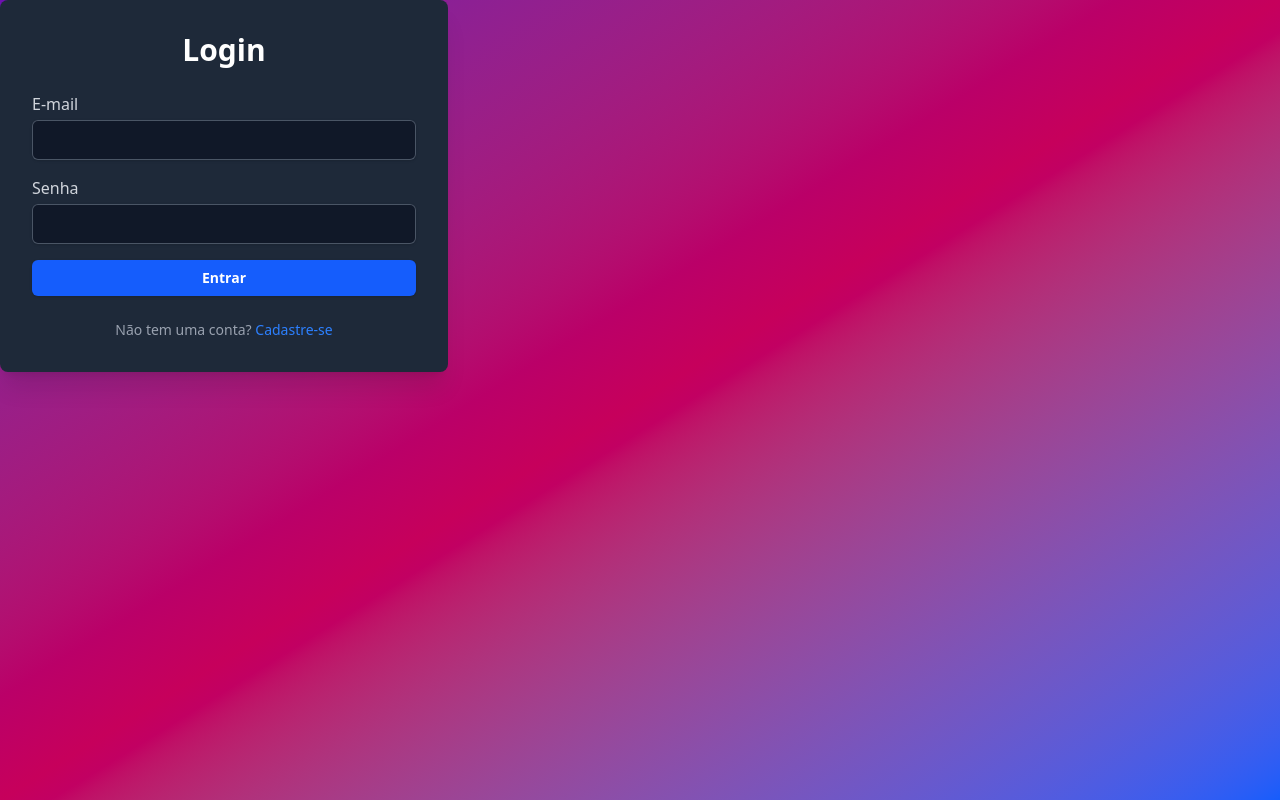
Test case: LoginPage › should display an error message on failed login from API
Type "wrong@fail.com" into the field labelled "E-mail" at (224, 140), box [32,120,416,160]
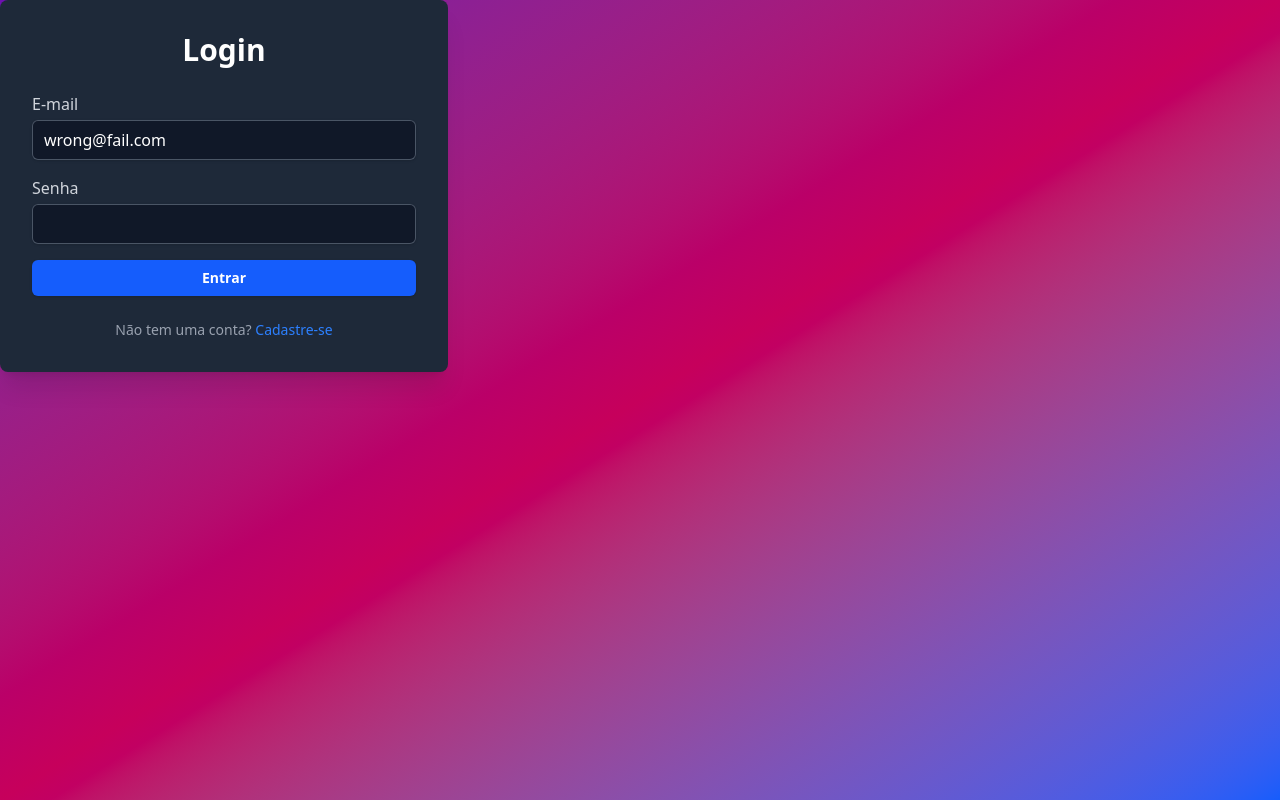
Type "wrongpassword" into the password field labelled "Senha" at (224, 224), box [32,204,416,244]
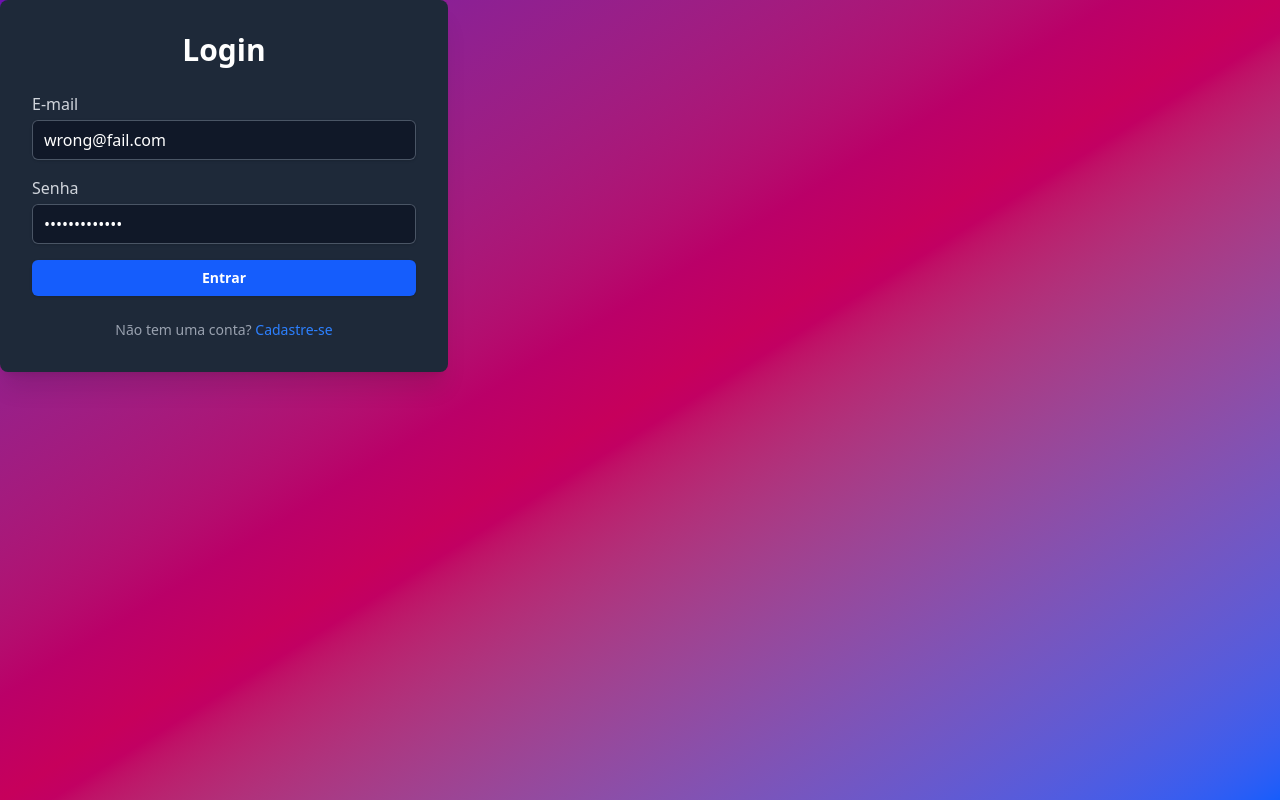
Click the button "Entrar" at (224, 278), box [32,260,416,296]
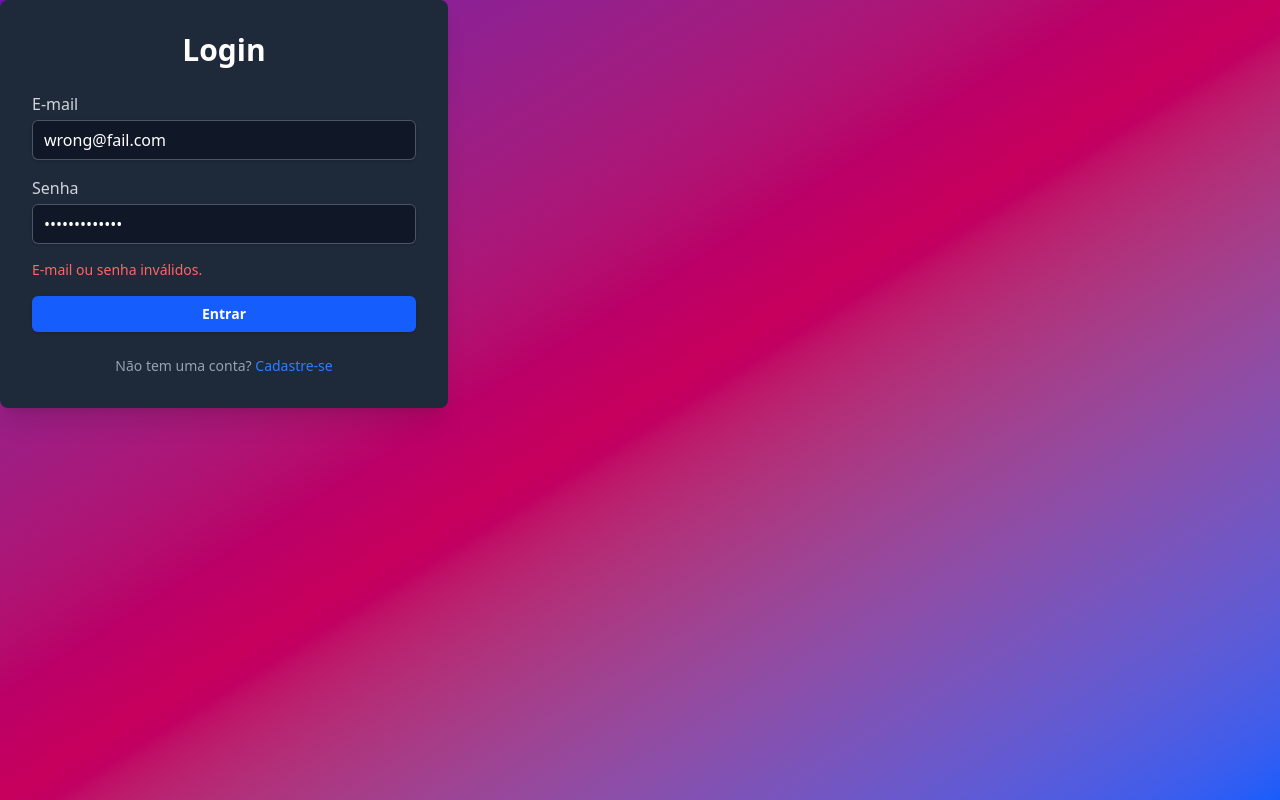
Expected: the text "E-mail ou senha inválidos." is shown, [32,260,202,279]
